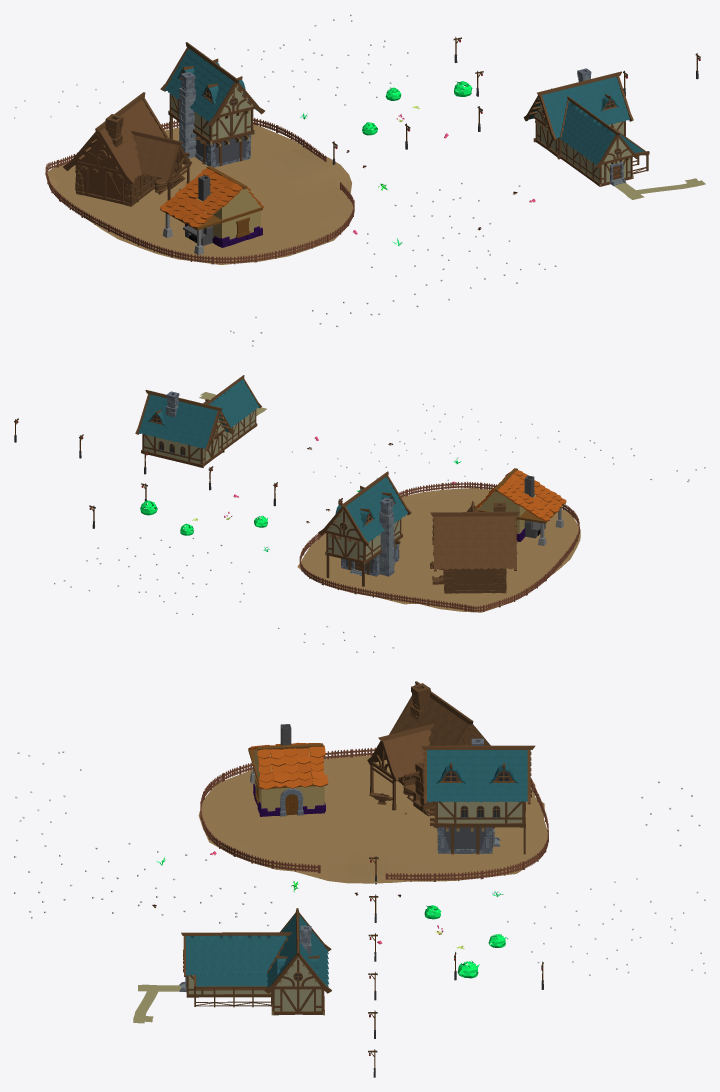
Rendered from chunk_0_1.glb.
3 renders of one model, top to bottom at view 1: azimuth 30°, elevation 25°; view 2: azimuth 150°, elevation 25°; view 3: azimuth 270°, elevation 25°, orthographic. The views are drawn at different scales.
Visible parts, largest first — view 1: Plane.001, Stable.001, Blacksmith, House_2, BlackSmith_Shop_Cube.070, Fence2_Cube.006, Plane.010; view 2: Plane.001, Stable.001, Blacksmith, House_2, BlackSmith_Shop_Cube.070, Fence2_Cube.006; view 3: Plane.001, Stable.001, House_2, Blacksmith, BlackSmith_Shop_Cube.070, Fence2_Cube.006, Plane.010.
Part boxes in pixels (bbox=[...]): Plane.001: bbox=[45, 124, 353, 264]; Stable.001: bbox=[523, 68, 649, 186]; Blacksmith: bbox=[63, 92, 191, 206]; House_2: bbox=[160, 42, 264, 167]; BlackSmith_Shop_Cube.070: bbox=[160, 166, 263, 255]; Fence2_Cube.006: bbox=[45, 118, 354, 264]; Plane.010: bbox=[614, 178, 705, 199]; Plane.001: bbox=[297, 488, 580, 612]; Stable.001: bbox=[135, 375, 261, 467]; Blacksmith: bbox=[430, 501, 519, 593]; House_2: bbox=[318, 471, 411, 586]; BlackSmith_Shop_Cube.070: bbox=[475, 468, 566, 545]; Fence2_Cube.006: bbox=[299, 481, 579, 612]; Plane.001: bbox=[198, 755, 547, 883]; Stable.001: bbox=[179, 908, 331, 1015]; House_2: bbox=[421, 738, 535, 854]; Blacksmith: bbox=[367, 681, 490, 816]; BlackSmith_Shop_Cube.070: bbox=[248, 724, 328, 816]; Fence2_Cube.006: bbox=[200, 747, 548, 881]; Plane.010: bbox=[133, 984, 180, 1023].
Size of the model in its own units: 99.96 by 14.35 by 89.79.
